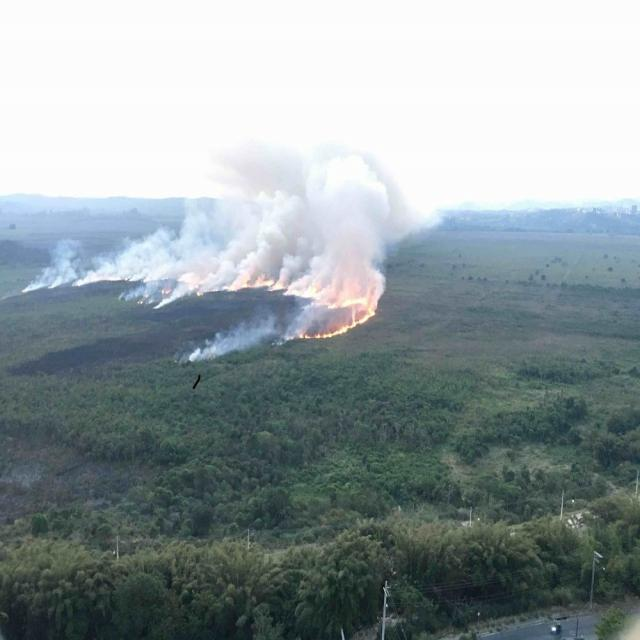Fire: (297, 292, 375, 340)
